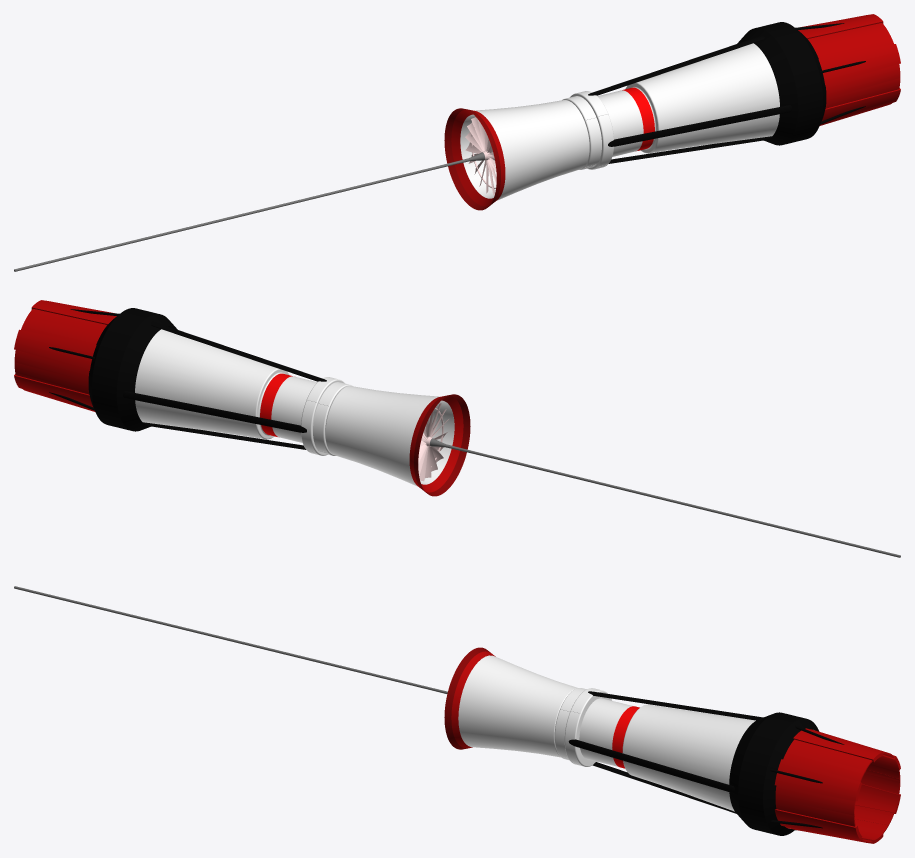
Rendered from xichenqi.glb.
The picture shows the model from 3 angles, top to bottom: view 1: azimuth 30°, elevation 25°; view 2: azimuth 150°, elevation 25°; view 3: azimuth 330°, elevation 25°; orthographic projection.
Visible parts, largest first — view 1: 外壳, 操纵杆 (×4), 吸口 (×5), 出气口 (×2), 开关 (×2), 电子, 贴图; view 2: 外壳, 操纵杆 (×4), 吸口 (×5), 出气口 (×2), 开关 (×2), 电子, 贴图; view 3: 外壳, 吸口 (×8), 操纵杆 (×4), 开关 (×2), 出气口 (×2), 电子, 贴图.
Part boxes in pixels (bbox=[...]): 外壳: bbox=[460, 43, 779, 200]; 操纵杆 (×4): bbox=[588, 22, 826, 163]; 吸口 (×5): bbox=[798, 14, 900, 125]; 出气口 (×2): bbox=[444, 108, 505, 210]; 开关 (×2): bbox=[562, 91, 613, 166]; 电子: bbox=[14, 152, 484, 271]; 贴图: bbox=[622, 87, 654, 150]; 外壳: bbox=[135, 329, 454, 486]; 操纵杆 (×4): bbox=[88, 308, 326, 449]; 吸口 (×5): bbox=[14, 300, 116, 411]; 出气口 (×2): bbox=[409, 394, 470, 496]; 开关 (×2): bbox=[301, 377, 352, 452]; 电子: bbox=[430, 438, 900, 557]; 贴图: bbox=[260, 373, 292, 436]; 外壳: bbox=[458, 655, 755, 811]; 吸口 (×8): bbox=[774, 728, 900, 839]; 操纵杆 (×4): bbox=[568, 691, 819, 835]; 开关 (×2): bbox=[554, 688, 607, 763]; 出气口 (×2): bbox=[444, 647, 495, 749]; 电子: bbox=[14, 586, 447, 693]; 贴图: bbox=[612, 706, 639, 768].
Bounding box in the file's own units: 0.7636 × 0.092 × 0.092.
